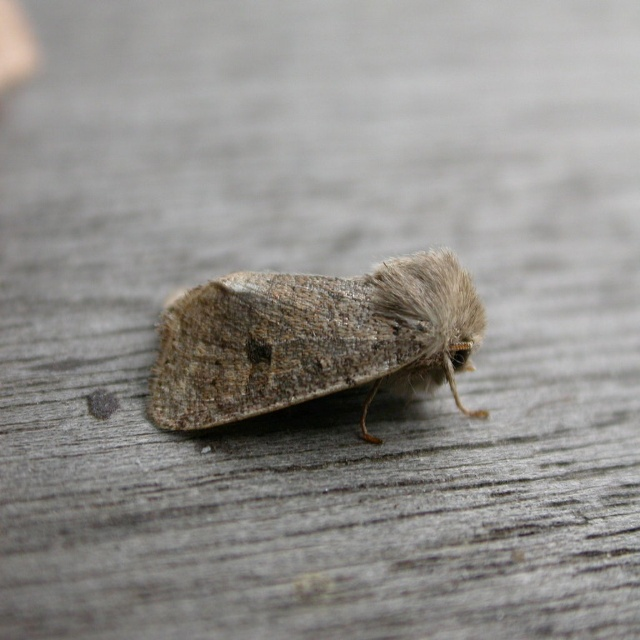Moths and butterflies: (144, 245, 494, 445)
